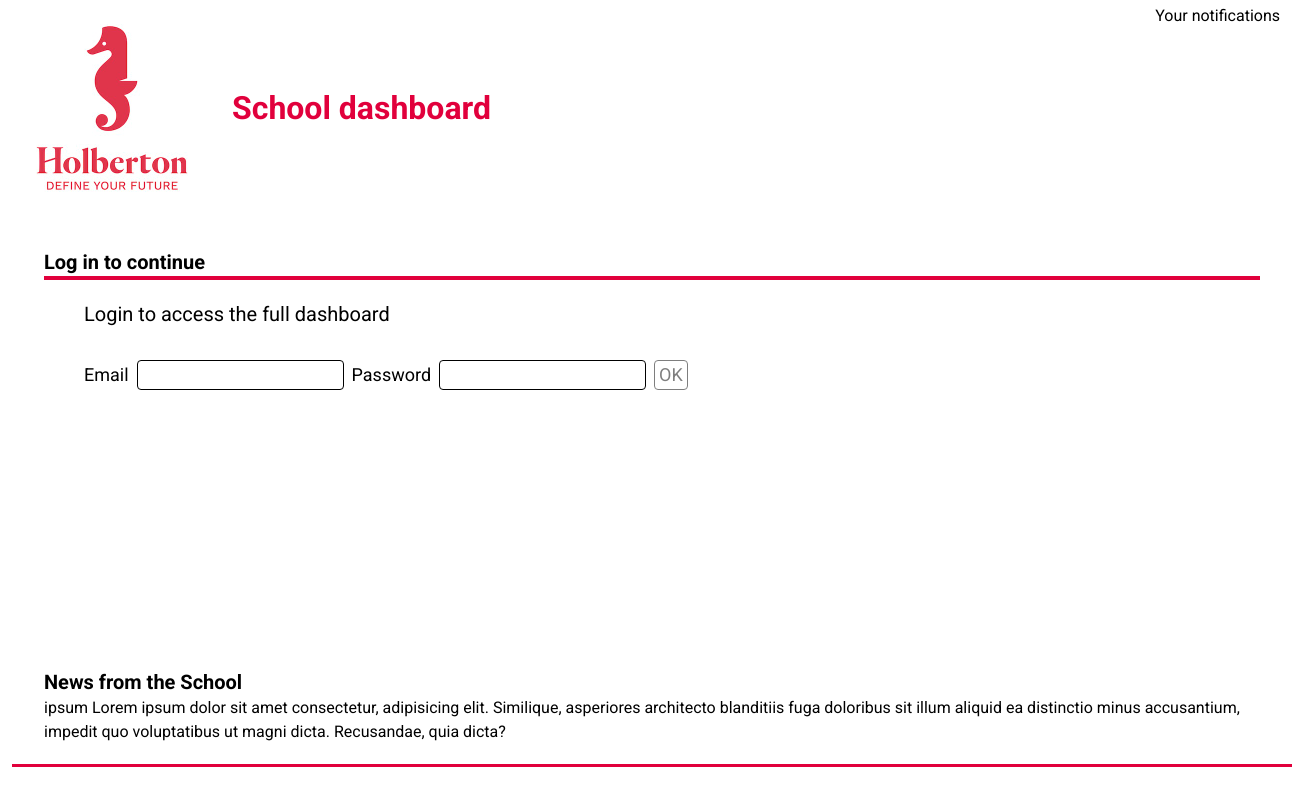
Test: App Component › renders CourseList when user is logged in
In the field labelled "Email": (240, 375) left=137, top=360, right=344, bottom=390, type "test@example.com"
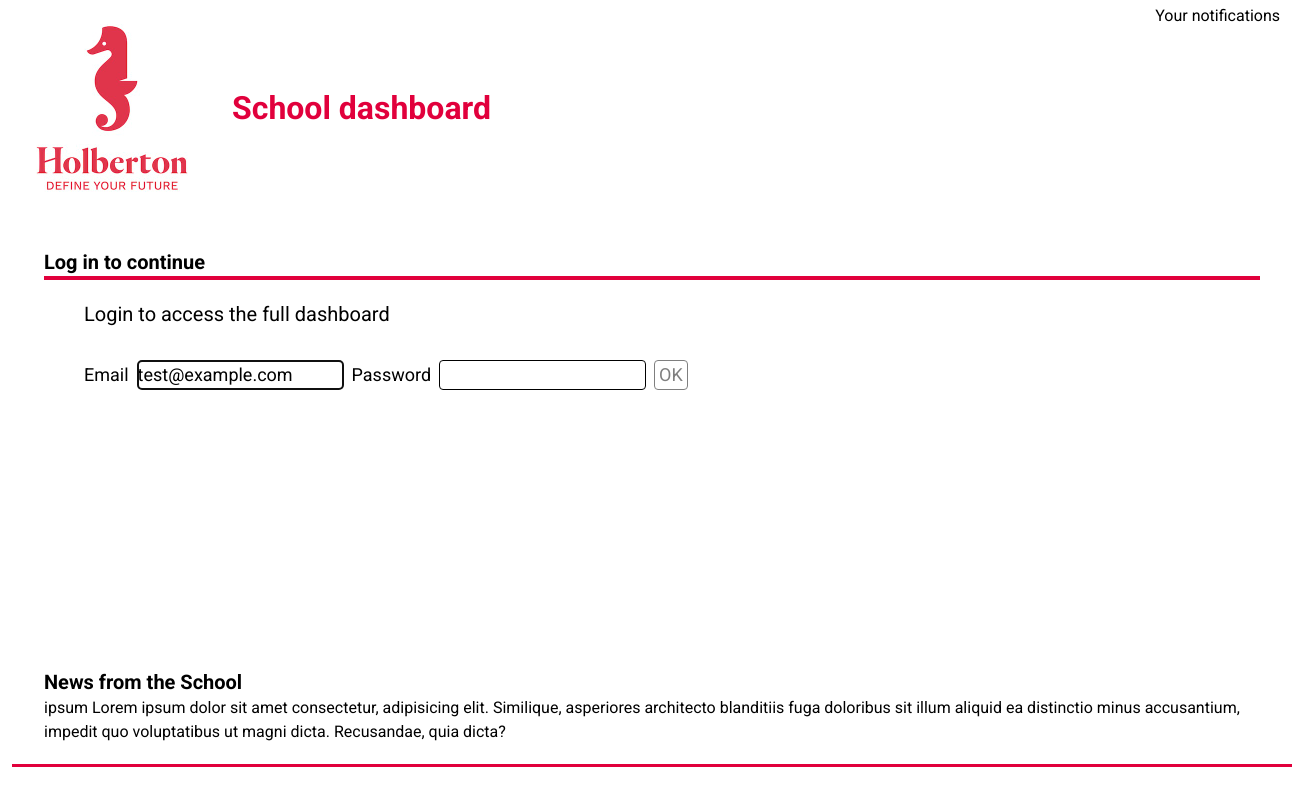
In the password field labelled "Password": (543, 375) left=439, top=360, right=646, bottom=390, type "password123"
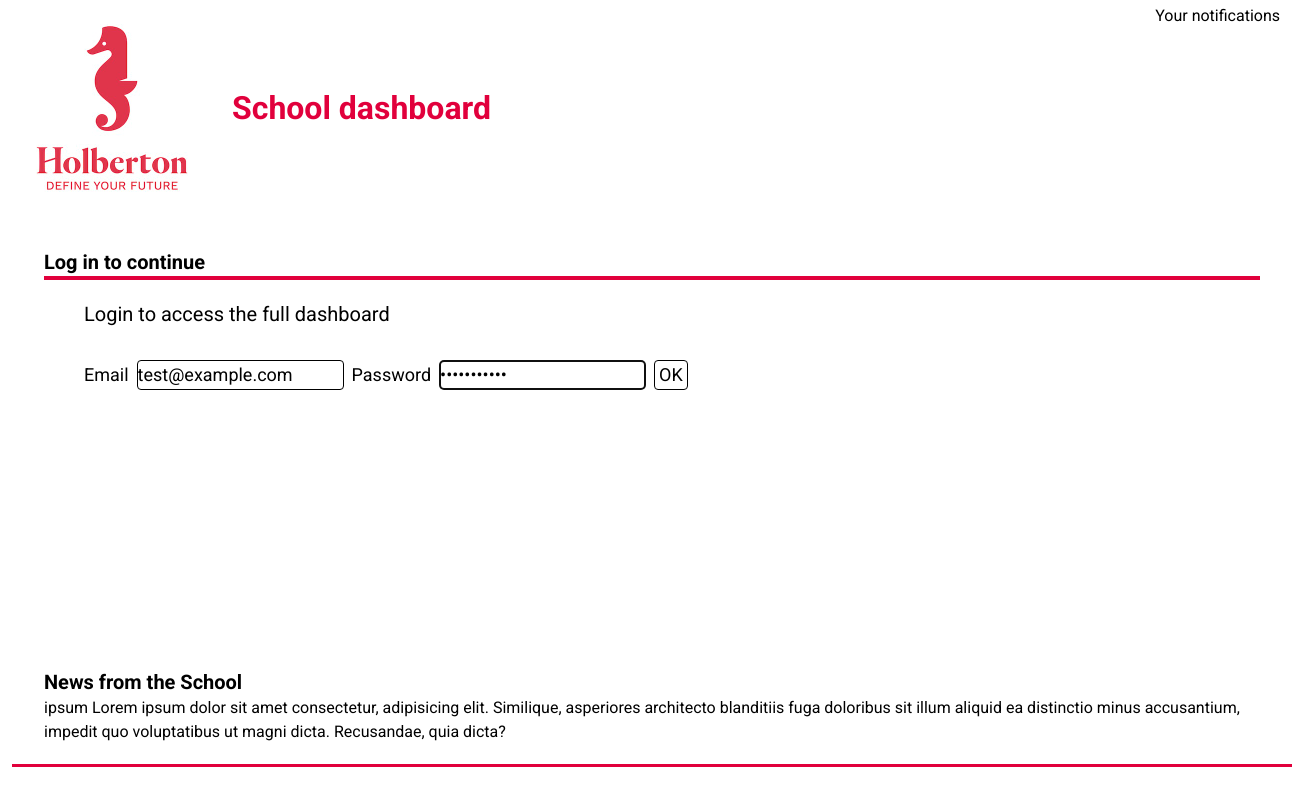
Click the button "OK": (671, 375) left=654, top=360, right=688, bottom=390
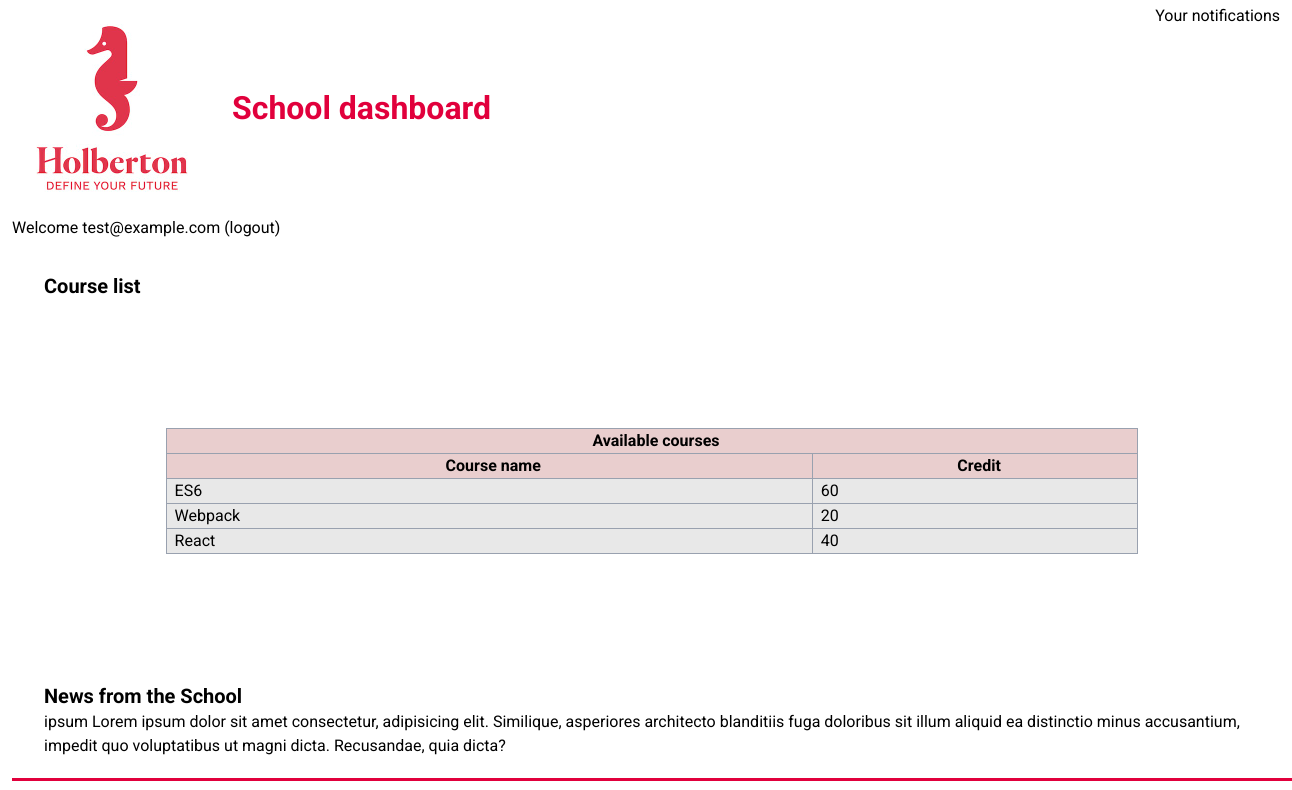
Check: the text "Login to access the full dashboard" is gone
Check: the table is shown, box left=166, top=428, right=1138, bottom=554
